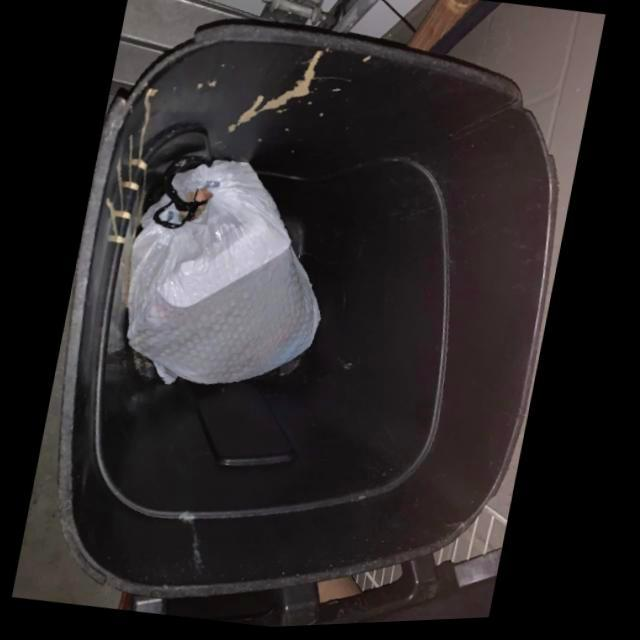plastic_bag: (128, 163, 323, 388)
